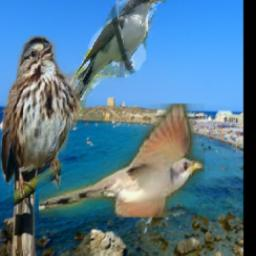Cuckoo: (39, 104, 205, 217), (59, 0, 166, 121)
Sparrow: (1, 36, 81, 256)
